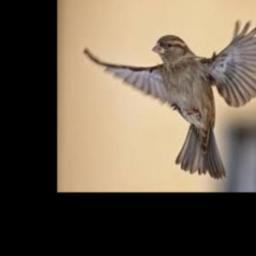Sparrow: (84, 19, 256, 178)
